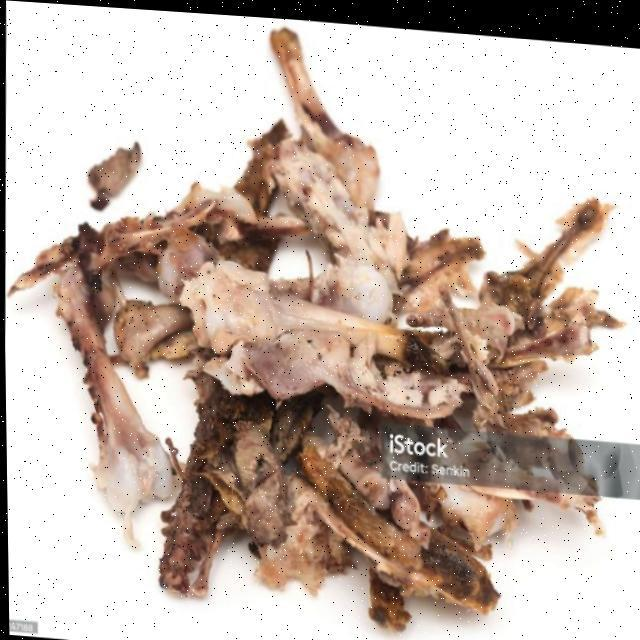Wet Waste: (51, 244, 192, 526), (200, 265, 430, 375)
